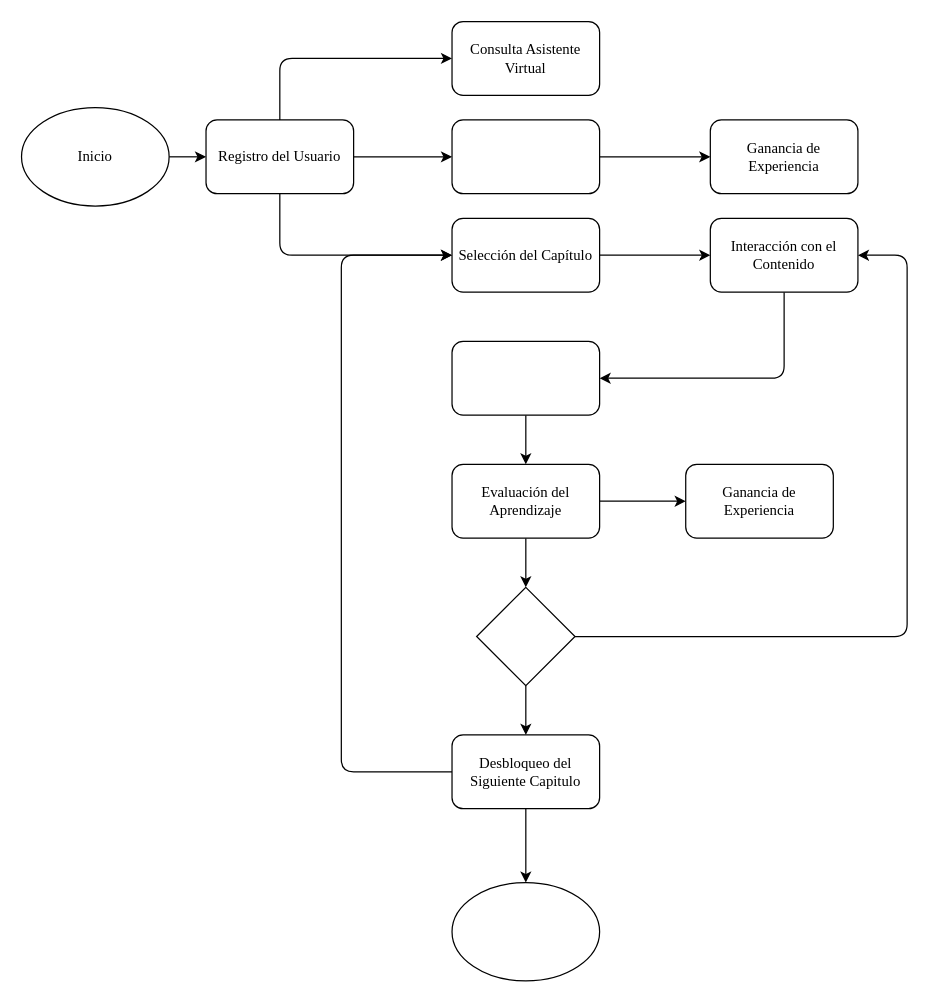
The diagram is 938 pixels wide and 1002 high, and some of its shapes have lost their labels. Here are the shapes that lost their labels. From the top down, the centre of each, then its label:
At (x=525, y=156): "Aprendizaje Rápido".
At (x=525, y=377): "Finalización del Capítulo".
At (x=525, y=636): "Capitulo Logrado".
At (x=525, y=931): "Fin".
